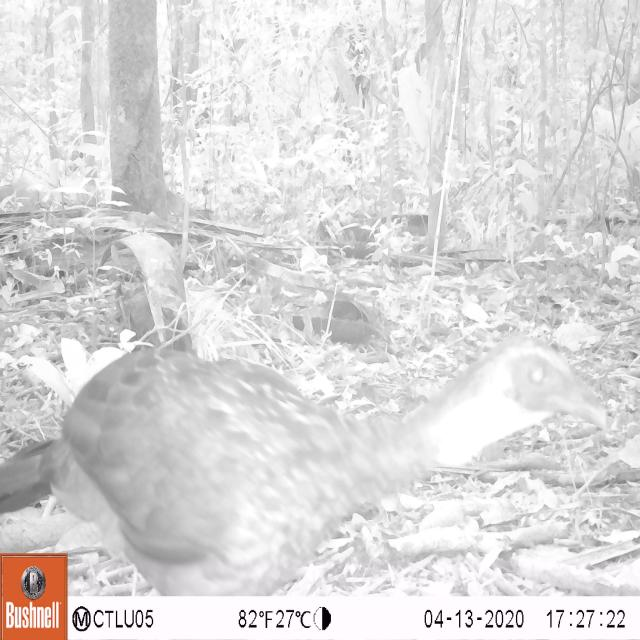Spixs Guan: (1, 334, 611, 596)
